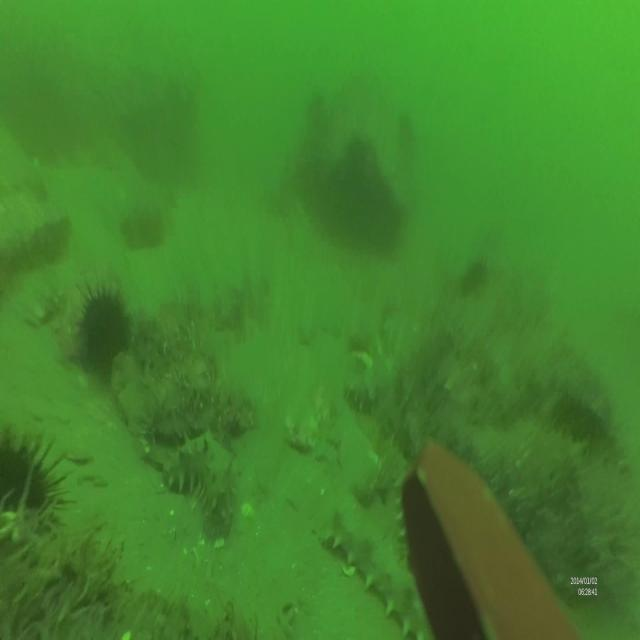echinus: (0, 430, 74, 511), (79, 285, 129, 367), (462, 247, 492, 295)
holothurian: (319, 495, 439, 640), (161, 437, 236, 534)
